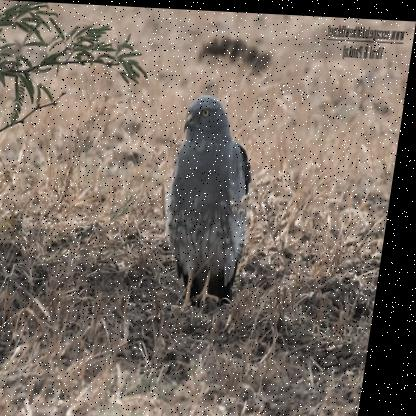Burung: (161, 87, 278, 313)
